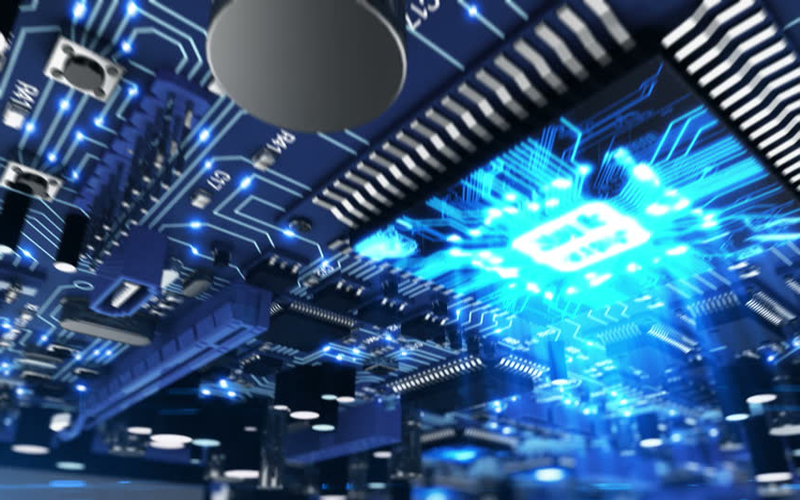Cirtuit-Board: (2, 51, 800, 500)
